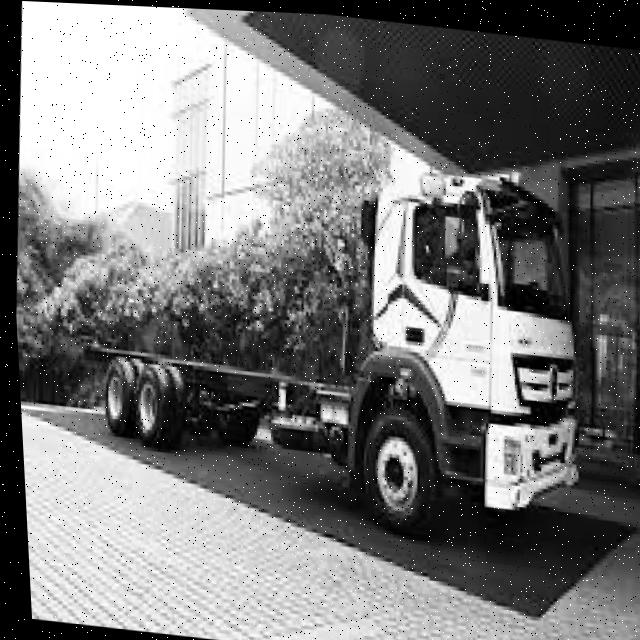truck: (318, 134, 620, 550)
